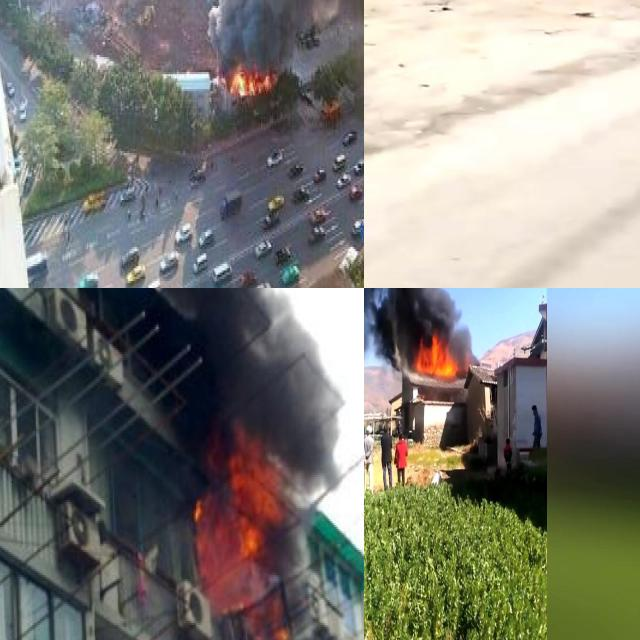fire: (193, 433, 294, 640), (414, 334, 462, 380), (225, 61, 272, 98)
smoke: (206, 316, 343, 471), (156, 288, 304, 311)
